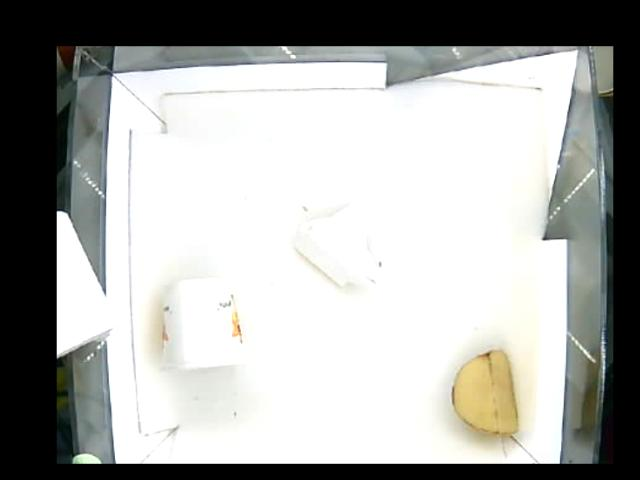China: (294, 201, 384, 297)
Cup: (157, 276, 249, 368)
Potato: (449, 348, 518, 435)
